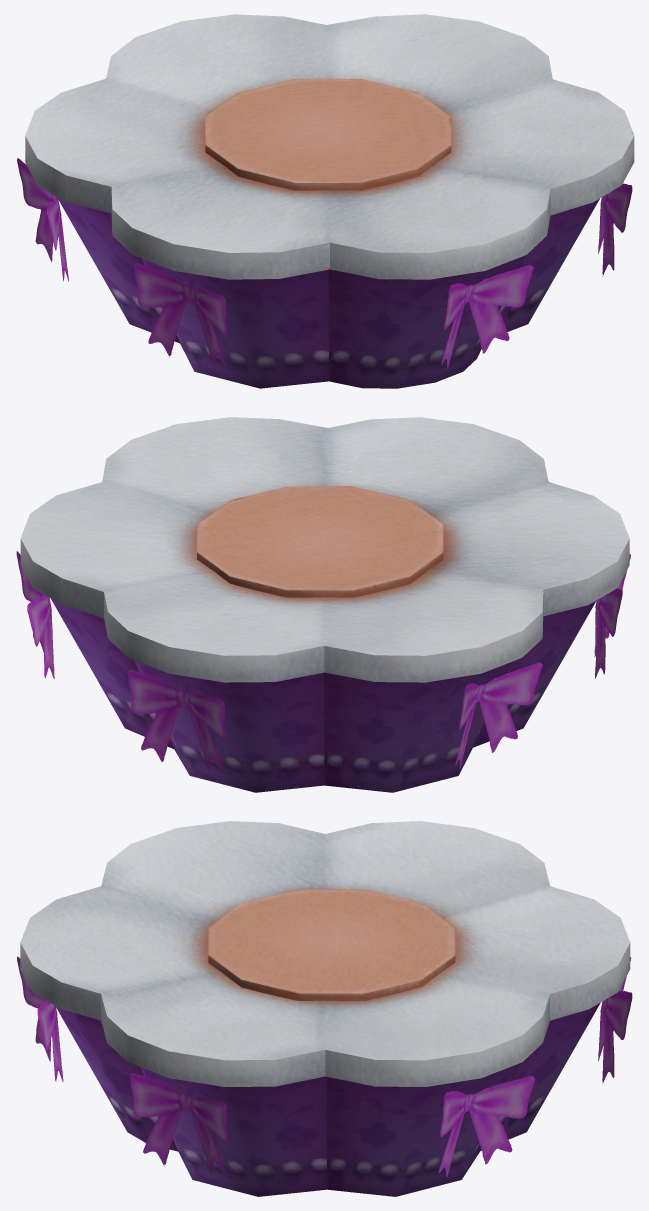
File: furni_0200015_01.FBX
3 renders of one model, top to bottom at view 1: azimuth 30°, elevation 25°; view 2: azimuth 150°, elevation 25°; view 3: azimuth 270°, elevation 25°, orthographic.
Visible parts, largest first — view 1: furni_0200015_01; view 2: furni_0200015_01; view 3: furni_0200015_01.
Boxes of the visible parts, x1=… form: furni_0200015_01: x1=17, y1=14, x2=634, y2=388; furni_0200015_01: x1=16, y1=417, x2=630, y2=792; furni_0200015_01: x1=17, y1=821, x2=632, y2=1196.
Size of the model in its own units: 153 by 50.01 by 161.
